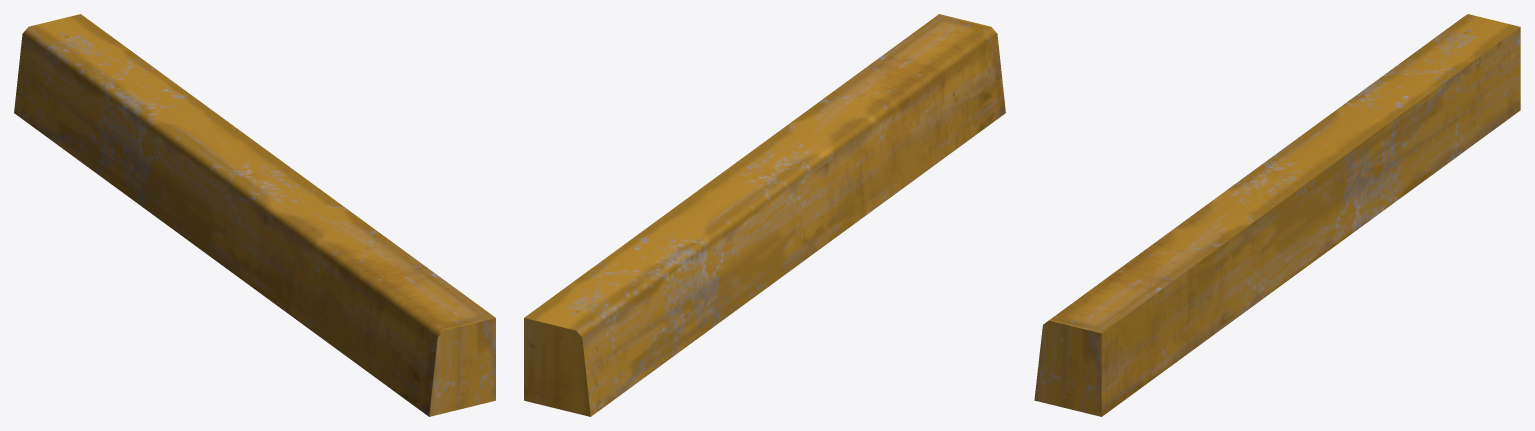
The model's file is MB_Curbstone_Yellow_1m.fbx.
The picture shows the model from 3 angles, left to right: view 1: azimuth 30°, elevation 25°; view 2: azimuth 150°, elevation 25°; view 3: azimuth 330°, elevation 25°; orthographic projection.
Parts seen in each view (by area): view 1: MB_Curbstone_Yellow_1m; view 2: MB_Curbstone_Yellow_1m; view 3: MB_Curbstone_Yellow_1m.
Boxes of the visible parts, x1,y1,x2,y2 form: MB_Curbstone_Yellow_1m: [14, 14, 495, 416]; MB_Curbstone_Yellow_1m: [524, 14, 1005, 416]; MB_Curbstone_Yellow_1m: [1034, 14, 1520, 416].
Size of the model in its own units: 9.28 by 11 by 100.
